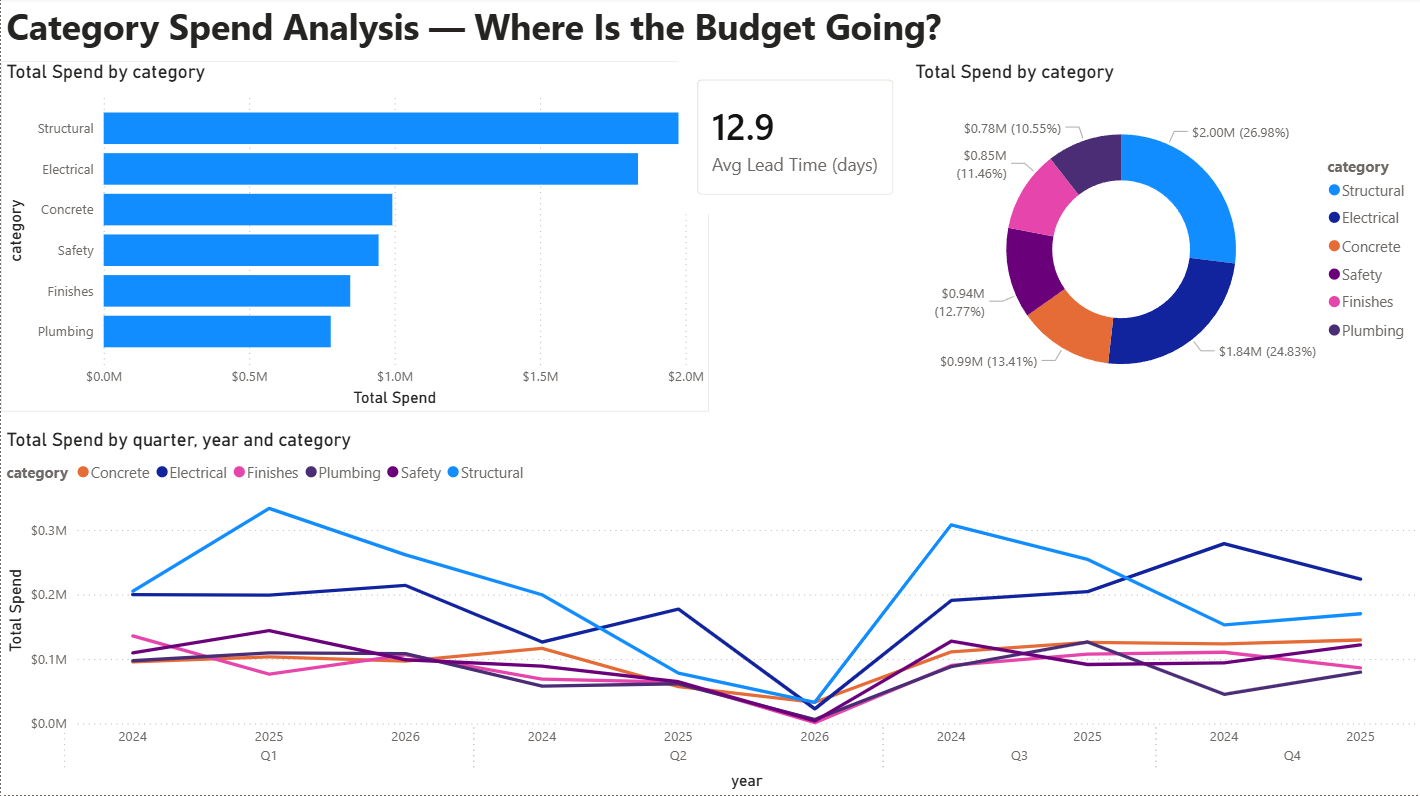

What the dashboard file says about the page in this screenshot:
{"tool":"powerbi","page":{"name":"Spend by Category","canvas":[1280,720],"ordinal":2},"visuals":[{"type":"clusteredBarChart","fields":{"Category":["dim_suppliers.category"],"Y":["_Measures.Total Spend"]},"box":[0,57.7,639.4,316.9],"z":0},{"type":"textbox","box":[0,0,871.8,57.7],"z":1},{"type":"donutChart","fields":{"Y":["_Measures.Total Spend"],"Category":["dim_suppliers.category"]},"box":[819.7,57.7,460.6,321.1],"z":2},{"type":"lineChart","fields":{"Category":["dim_dates.quarter","dim_dates.year"],"Y":["_Measures.Total Spend"],"Series":["dim_suppliers.category"]},"box":[0,388.7,1280.3,331],"z":3},{"type":"cardVisual","fields":{"Data":["_Measures.Avg Lead Time (days)"]},"box":[611.3,57.7,211.3,138],"z":4}]}

Visuals, with their boxes in screenshot pixels (x1, y1, x2, y2), scaled from the page's 1280x720 canvas onto the 1420x796 screenshot:
clusteredBarChart - dim_suppliers.category x _Measures.Total Spend: [0,64,709,414]
textbox: [0,0,967,64]
donutChart - _Measures.Total Spend x dim_suppliers.category: [909,64,1419,419]
lineChart - dim_dates.quarter x dim_dates.year: [0,430,1419,795]
cardVisual - _Measures.Avg Lead Time (days): [678,64,913,216]
